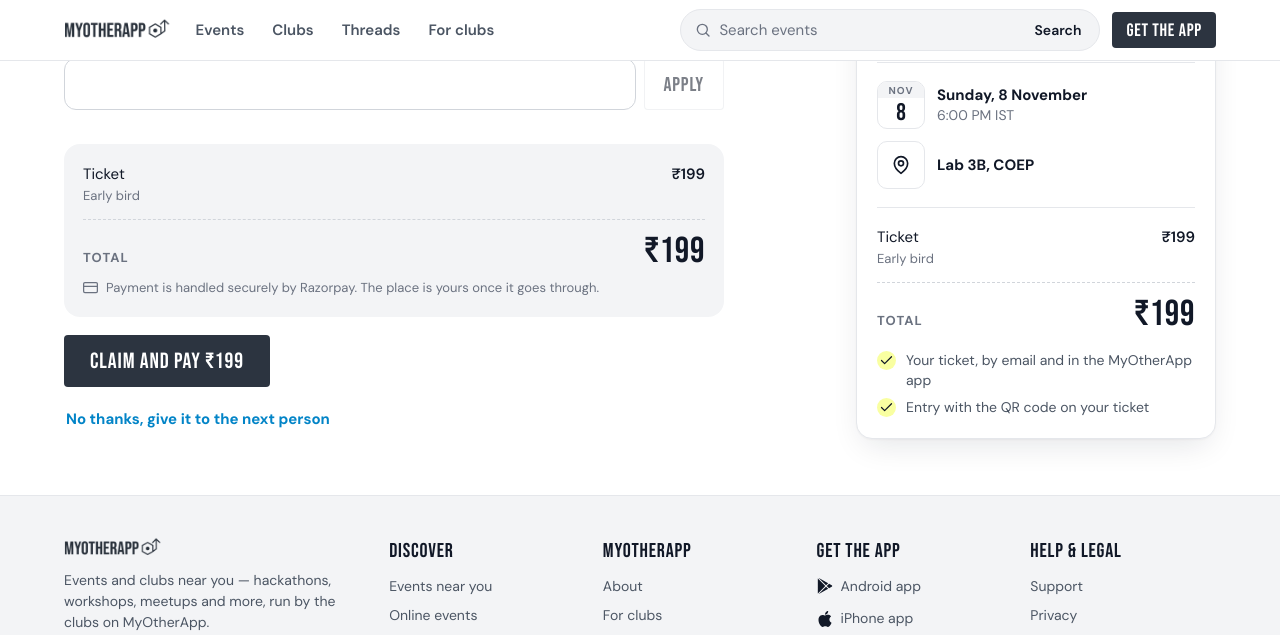
an offer standing › a checkout closed keeps the place until the offer runs out
(page scrolled)
Click the button "Claim and pay ₹199". click: (167, 361)
box: [64,335,270,387]
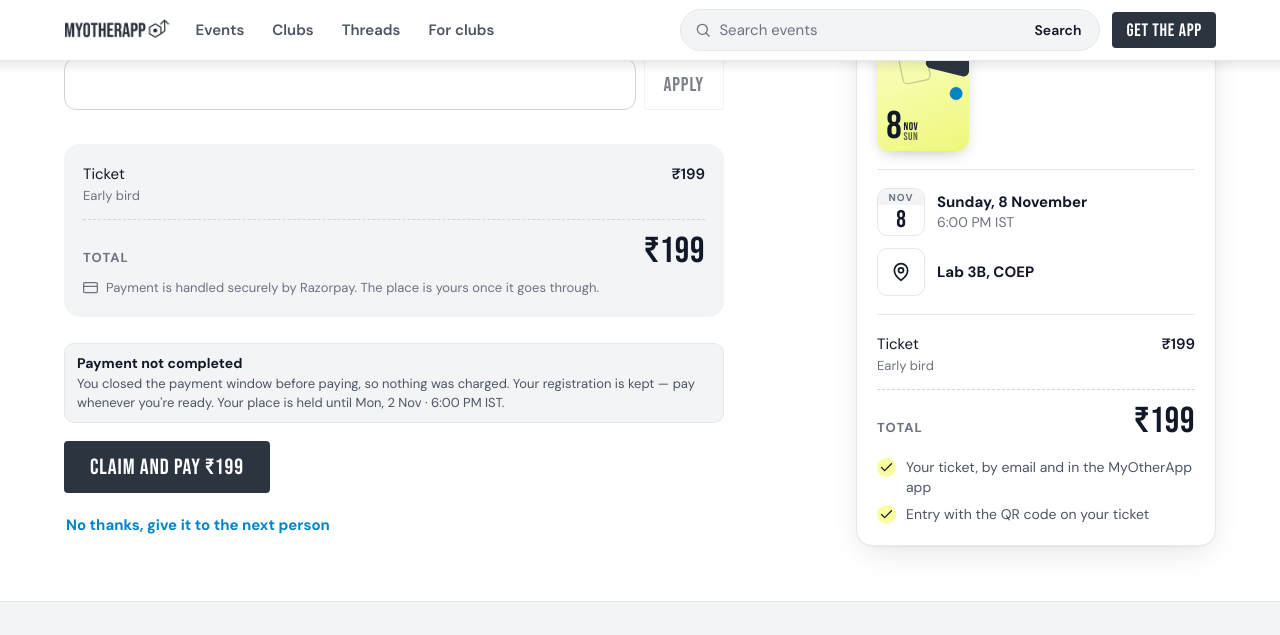
expect the button "Claim and pay ₹199" is enabled: met, box [64,441,270,493]
expect the message shows "Payment not completed": met, box [77,354,242,372]
expect the message shows "Your place is held until Mon, 2 Nov · 6:00 PM IST.": met, box [77,375,695,410]
